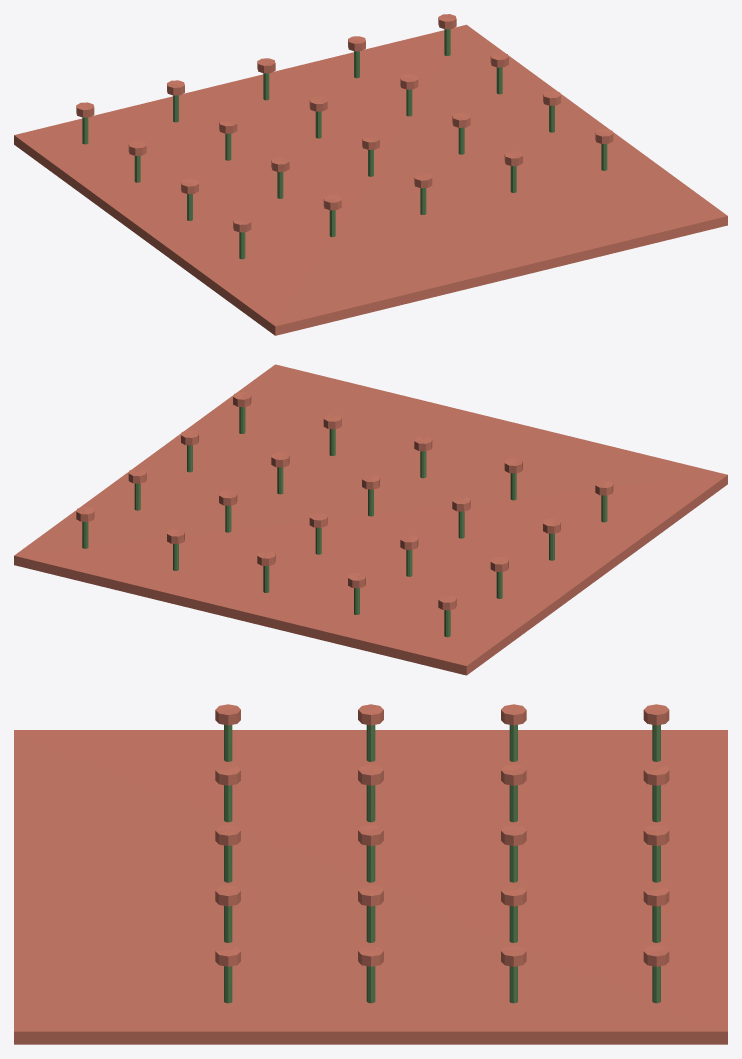
The model's file is wildflower-meadow.source.glb.
3 renders of one model, top to bottom at view 1: azimuth 30°, elevation 25°; view 2: azimuth 150°, elevation 25°; view 3: azimuth 270°, elevation 25°, orthographic. The views are drawn at different scales.
Visible parts, largest first — view 1: wildflower-meadow-ground-mesh; view 2: wildflower-meadow-ground-mesh; view 3: wildflower-meadow-ground-mesh.
Part boxes in pixels (left/top/right/bottom): wildflower-meadow-ground-mesh: left=14, top=24, right=727, bottom=335; wildflower-meadow-ground-mesh: left=14, top=364, right=727, bottom=675; wildflower-meadow-ground-mesh: left=14, top=730, right=727, bottom=1044.
Size of the model in its own units: 5 by 0.49 by 5.
